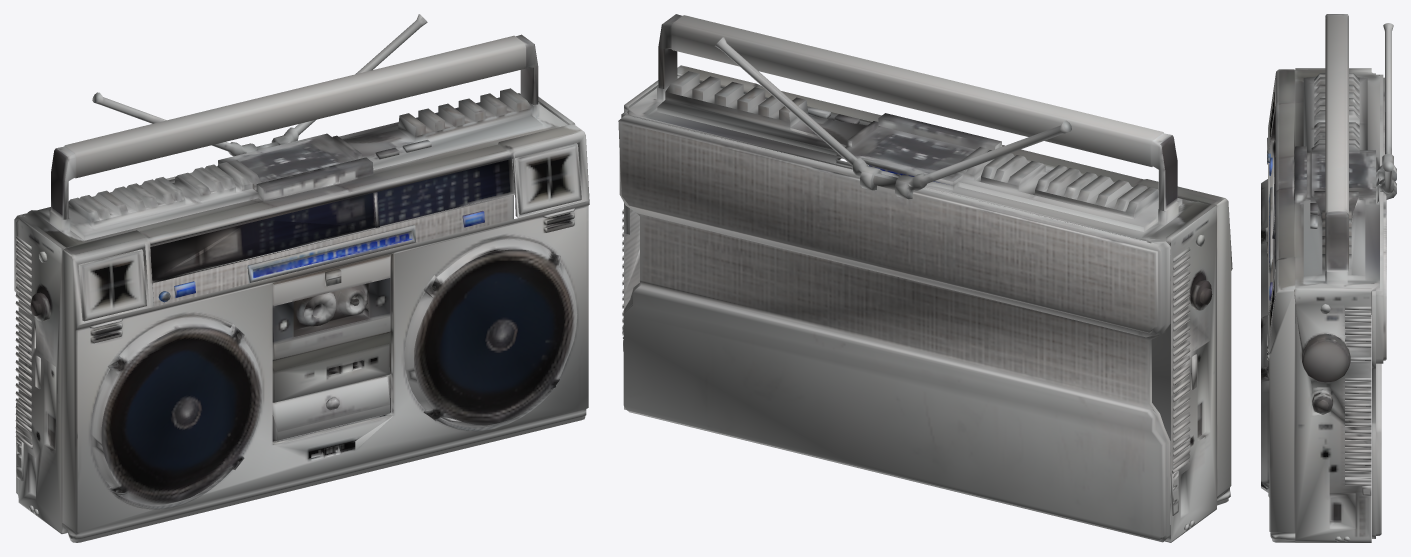
File: Music box.fbx
The picture shows the model from 3 angles, left to right: view 1: azimuth 30°, elevation 25°; view 2: azimuth 150°, elevation 25°; view 3: azimuth 270°, elevation 25°; orthographic projection. The views are drawn at different scales.
Parts seen in each view (by area): view 1: texture_pbr_v128.001; view 2: texture_pbr_v128.001; view 3: texture_pbr_v128.001.
Boxes of the visible parts, x1=… form: texture_pbr_v128.001: x1=14, y1=14, x2=589, y2=542; texture_pbr_v128.001: x1=618, y1=14, x2=1232, y2=542; texture_pbr_v128.001: x1=1261, y1=14, x2=1396, y2=542.
Size of the model in its own units: 101 by 68.36 by 24.86.
Materials: 1 (1 with a texture image).
